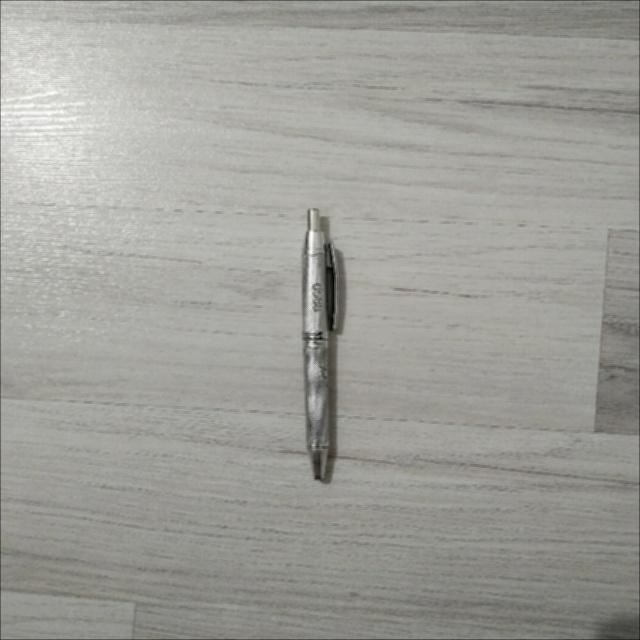signature pen: (302, 209, 337, 479)
